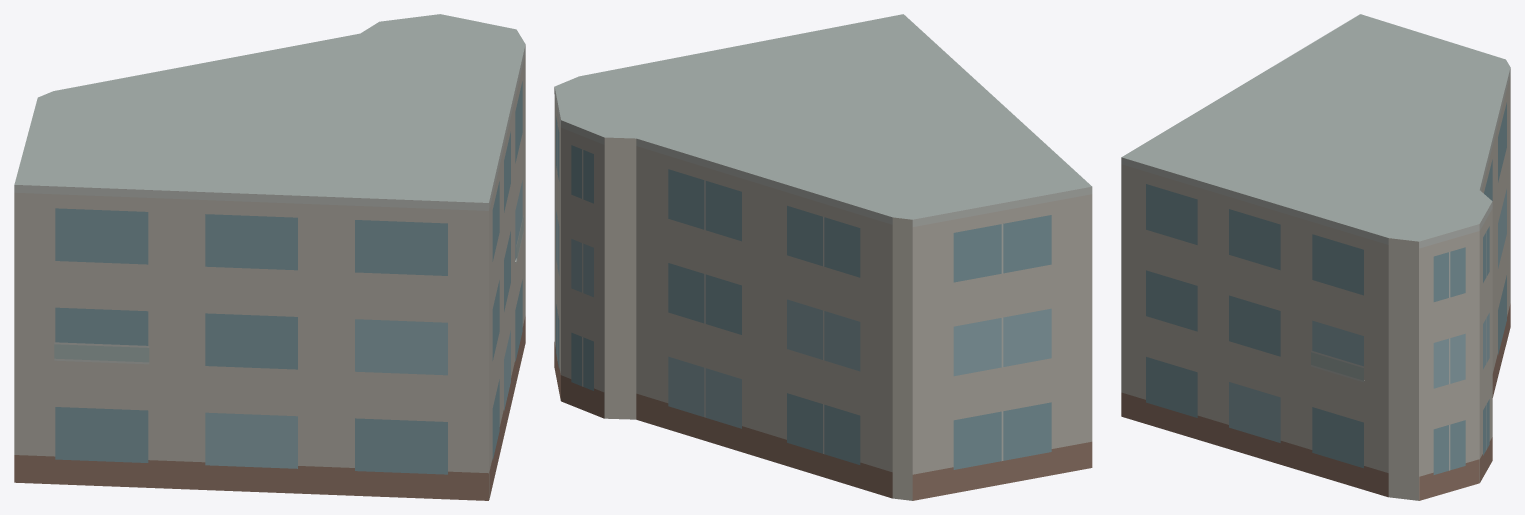
Rendered from survey-upis-32627035.glb.
3 views of the same model, side by side, from view 1: azimuth 30°, elevation 25°; view 2: azimuth 150°, elevation 25°; view 3: azimuth 270°, elevation 25° (orthographic). The views are drawn at different scales.
Parts seen in each view (by area): view 1: survey-upis-32627035.tmp; view 2: survey-upis-32627035.tmp; view 3: survey-upis-32627035.tmp.
Part boxes in pixels (x1,y1,x2,y2): survey-upis-32627035.tmp: (14,14,525,500); survey-upis-32627035.tmp: (554,14,1092,500); survey-upis-32627035.tmp: (1121,14,1510,500).
Bounding box in the file's own units: 17.24 × 9.15 × 12.46.
